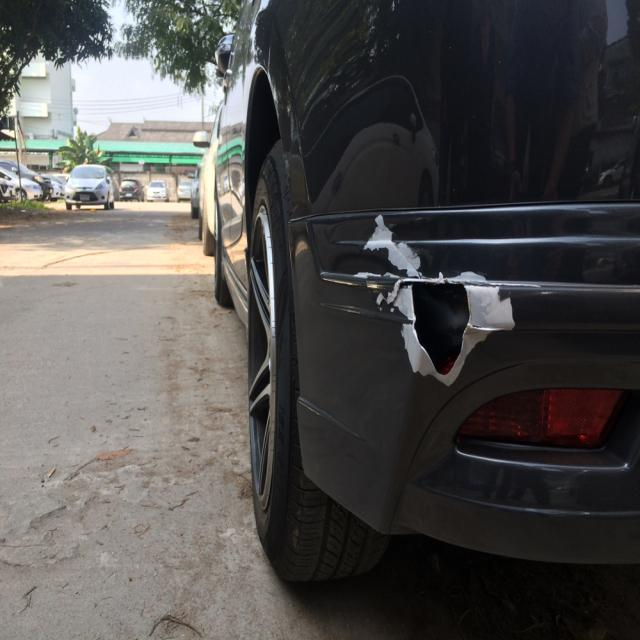crack: (379, 279, 472, 377)
